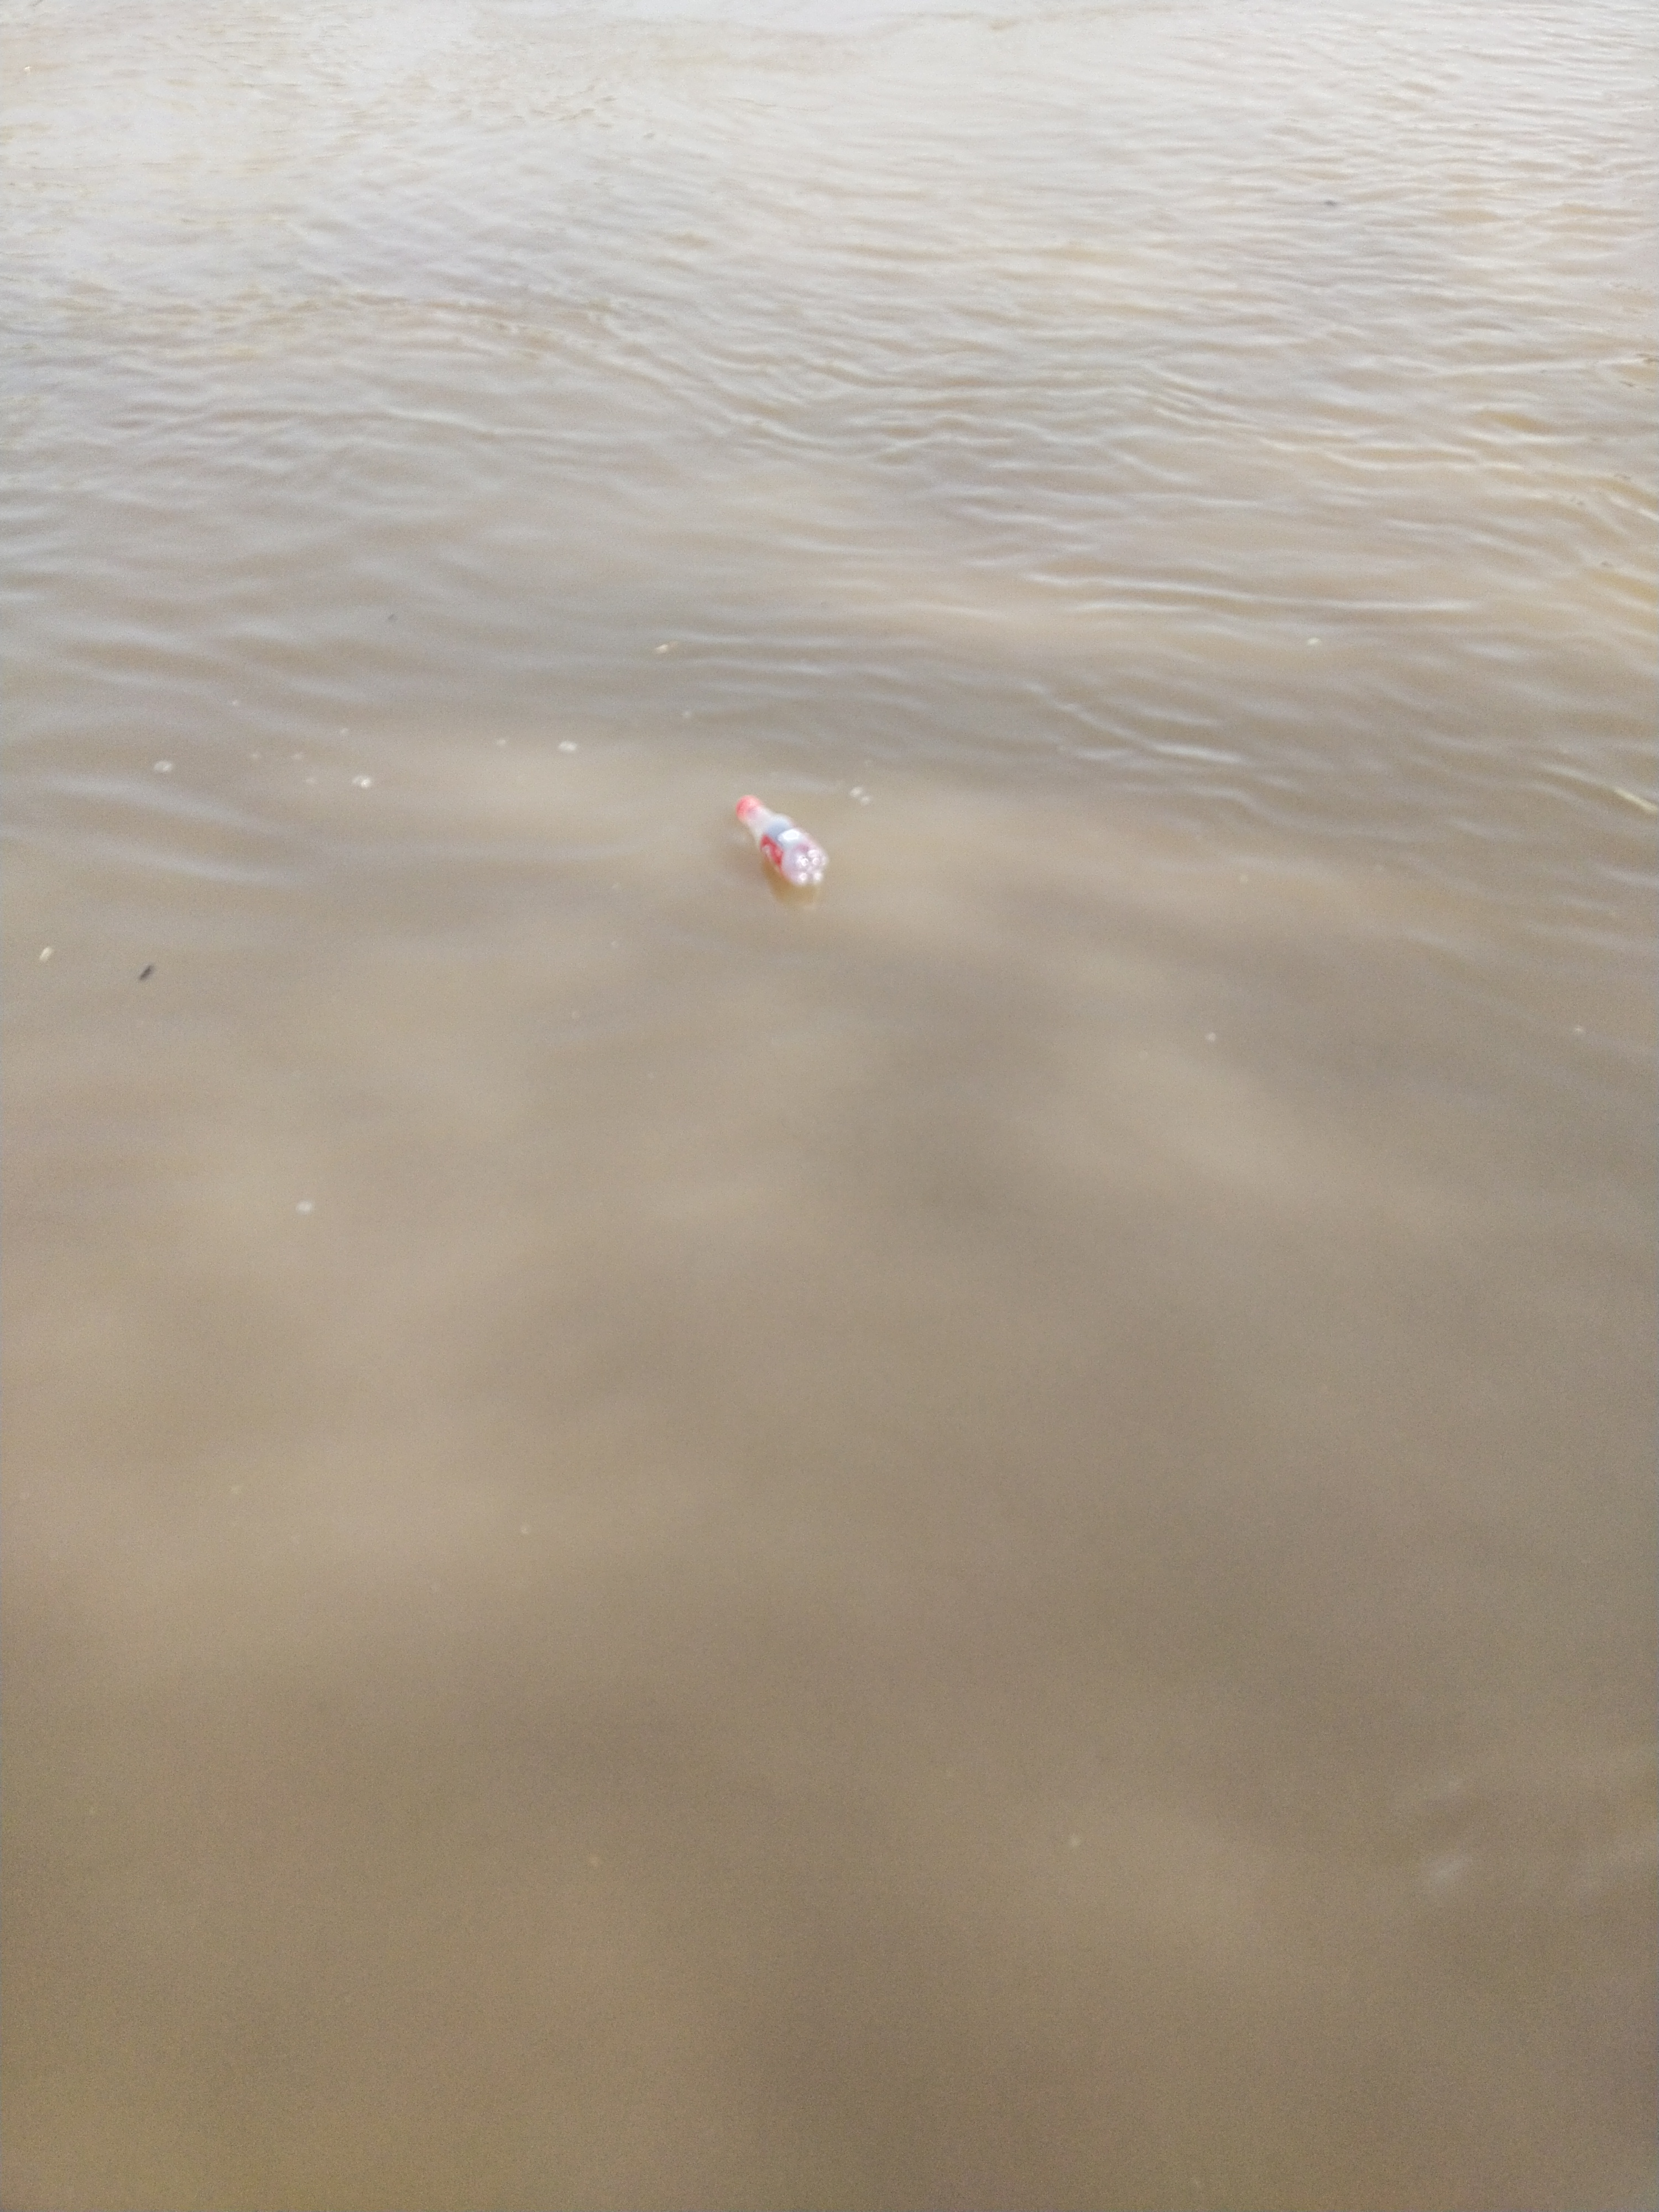Plastic Bottle: (737, 794, 828, 887)
